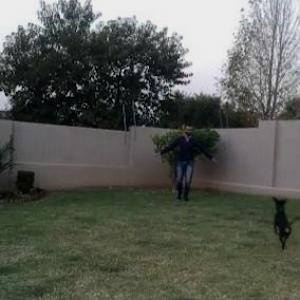land: (156, 114, 226, 208)
